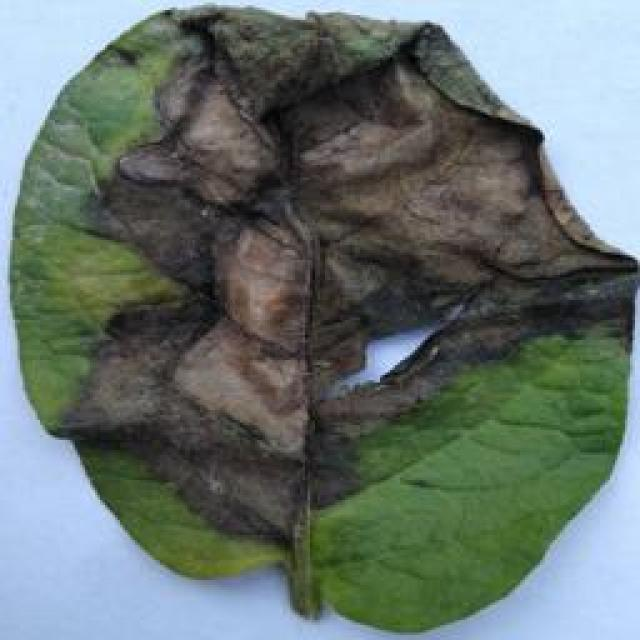Potato_Late_Blight: (7, 27, 632, 640)
